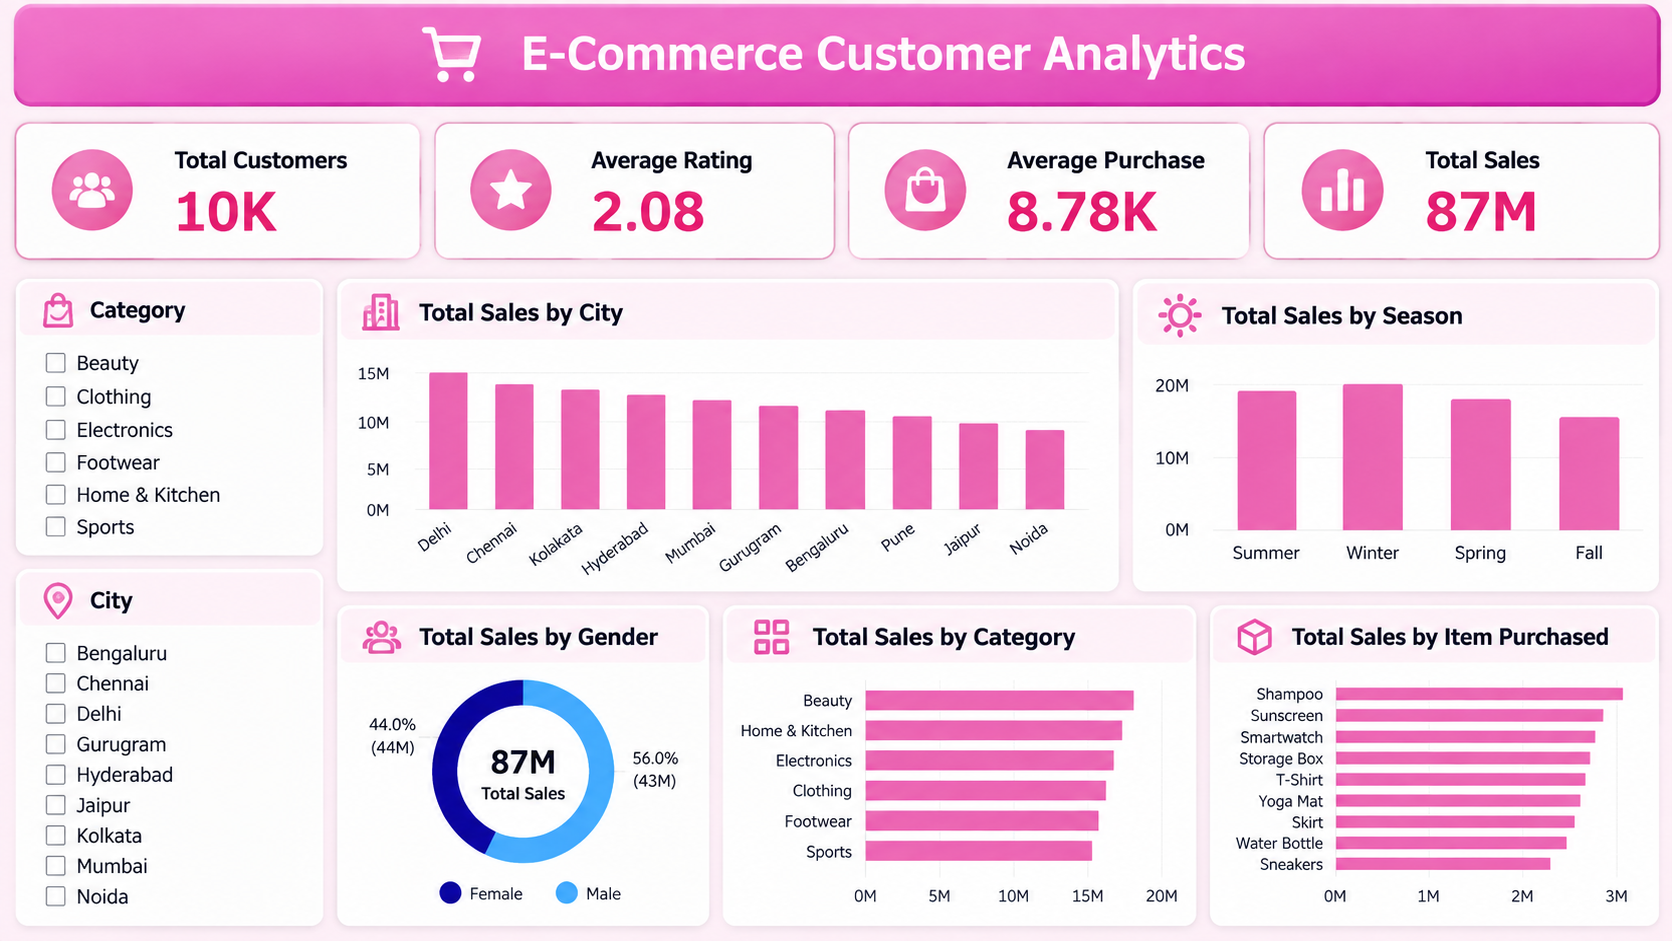

The page's visual inventory and layout, read from the dashboard file:
{"tool":"powerbi","page":{"name":"Page 1","canvas":[1920,1080],"ordinal":0},"visuals":[{"type":"cardVisual","fields":{"Data":["Ecommerce_Customer_Analytics_Clean.Total Customer","Ecommerce_Customer_Analytics_Clean.Average Rating","Ecommerce_Customer_Analytics_Clean.Average Purchase","Ecommerce_Customer_Analytics_Clean.Total Sales"]},"box":[296,137.3,1424.4,158.7],"z":0},{"type":"clusteredBarChart","fields":{"Category":["Ecommerce_Customer_Analytics_Clean.Category"],"Y":["Ecommerce_Customer_Analytics_Clean.Total Sales"]},"box":[860.2,675.8,529.9,336.8],"z":1},{"type":"clusteredColumnChart","fields":{"Category":["Ecommerce_Customer_Analytics_Clean.City"],"Y":["Ecommerce_Customer_Analytics_Clean.Total Sales"]},"box":[905.3,296,506.3,319.6],"z":2},{"type":"columnChart","fields":{"Category":["Ecommerce_Customer_Analytics_Clean.Season"],"Y":["Ecommerce_Customer_Analytics_Clean.Total Sales"]},"box":[1437.3,296,444.1,319.6],"z":3},{"type":"donutChart","fields":{"Category":["Ecommerce_Customer_Analytics_Clean.Gender"],"Y":["Ecommerce_Customer_Analytics_Clean.Total Sales"]},"box":[450.5,669.3,390.4,343.2],"z":4},{"type":"clusteredBarChart","fields":{"Category":["Ecommerce_Customer_Analytics_Clean.Item_Purchased"],"Y":["Ecommerce_Customer_Analytics_Clean.Total Sales"]},"box":[1411.6,675.8,508.4,336.8],"z":5},{"type":"slicer","fields":{"Values":["Ecommerce_Customer_Analytics_Clean.Category"]},"box":[42.9,296,341.1,319.6],"z":6},{"type":"listSlicer","fields":{"Values":["Ecommerce_Customer_Analytics_Clean.City"]},"box":[45.1,675.8,369,336.8],"z":7},{"type":"advancedSlicerVisual","fields":{"Values":["Ecommerce_Customer_Analytics_Clean.Gender"]},"box":[414,296,446.2,319.6],"z":8},{"type":"shape","box":[0,0,1920,115.8],"z":9},{"type":"textbox","box":[0,0,1920,115.8],"z":10}]}

Visuals, with their boxes in screenshot pixels (x1, y1, x2, y2), scaled from the page's 1920x1080 canvas onto the 1672x941 screenshot:
cardVisual - Ecommerce_Customer_Analytics_Clean.Total Customer x Ecommerce_Customer_Analytics_Clean.Average Rating: 258, 120, 1498, 258
clusteredBarChart - Ecommerce_Customer_Analytics_Clean.Category x Ecommerce_Customer_Analytics_Clean.Total Sales: 749, 589, 1211, 882
clusteredColumnChart - Ecommerce_Customer_Analytics_Clean.City x Ecommerce_Customer_Analytics_Clean.Total Sales: 788, 258, 1229, 536
columnChart - Ecommerce_Customer_Analytics_Clean.Season x Ecommerce_Customer_Analytics_Clean.Total Sales: 1252, 258, 1638, 536
donutChart - Ecommerce_Customer_Analytics_Clean.Gender x Ecommerce_Customer_Analytics_Clean.Total Sales: 392, 583, 732, 882
clusteredBarChart - Ecommerce_Customer_Analytics_Clean.Item_Purchased x Ecommerce_Customer_Analytics_Clean.Total Sales: 1229, 589, 1671, 882
slicer - Ecommerce_Customer_Analytics_Clean.Category: 37, 258, 334, 536
listSlicer - Ecommerce_Customer_Analytics_Clean.City: 39, 589, 361, 882
advancedSlicerVisual - Ecommerce_Customer_Analytics_Clean.Gender: 361, 258, 749, 536
shape: 0, 0, 1671, 101
textbox: 0, 0, 1671, 101
